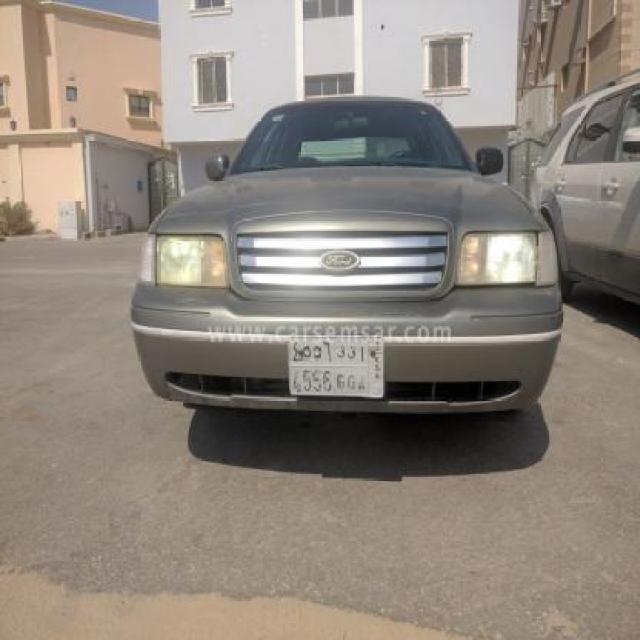license_plate: (286, 336, 388, 401)
